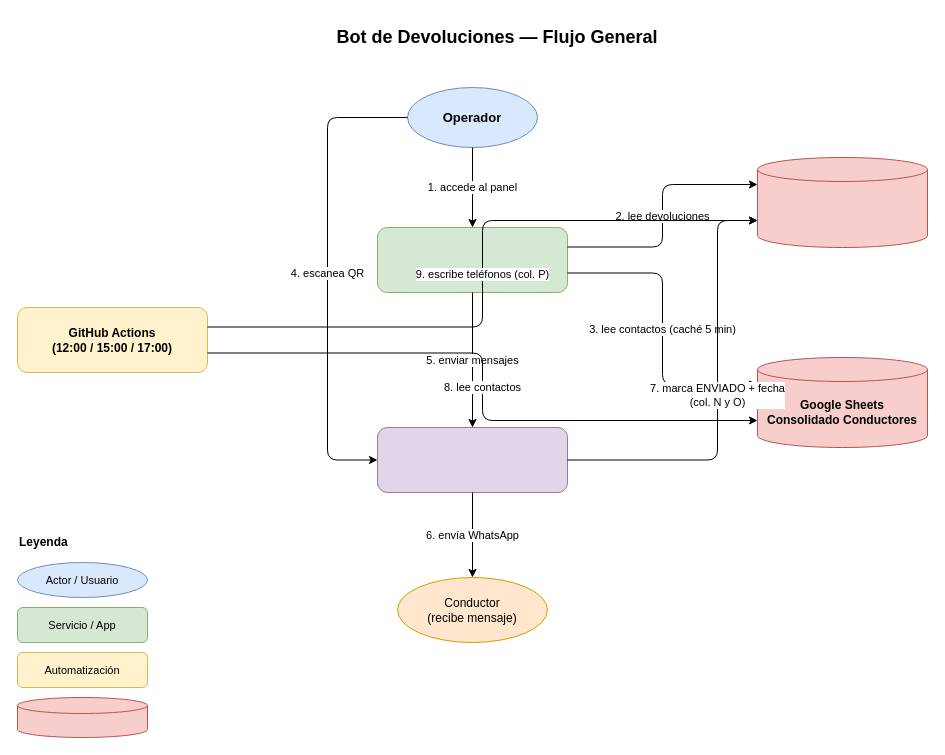
Image size: 945x755. Some labels were removed from this diagram. Here are the shapes that lost their labels. From the top down, the box of each, then its label:
(756, 156, 928, 248): Google Sheets Devoluciones
(376, 226, 568, 292): Panel Web (Render)
(376, 426, 568, 492): WhatsApp (Baileys)
(16, 696, 148, 738): Base de datos (Sheet)
